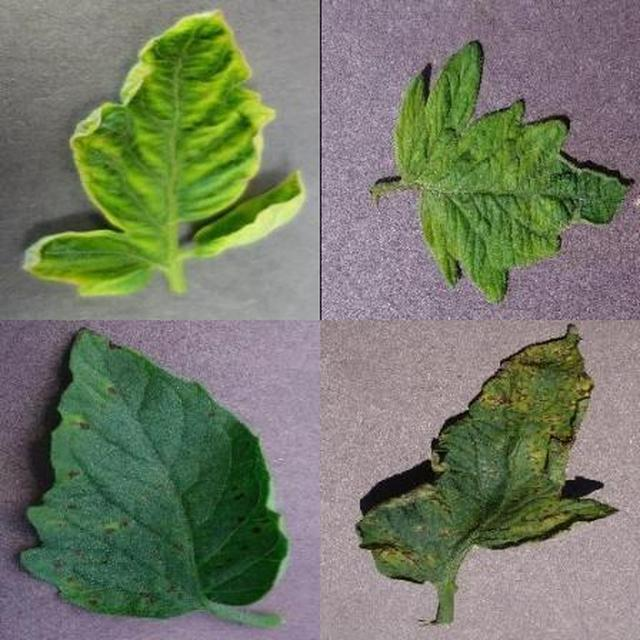Yellow Leaf Curl Virus: (222, 217, 640, 640)
